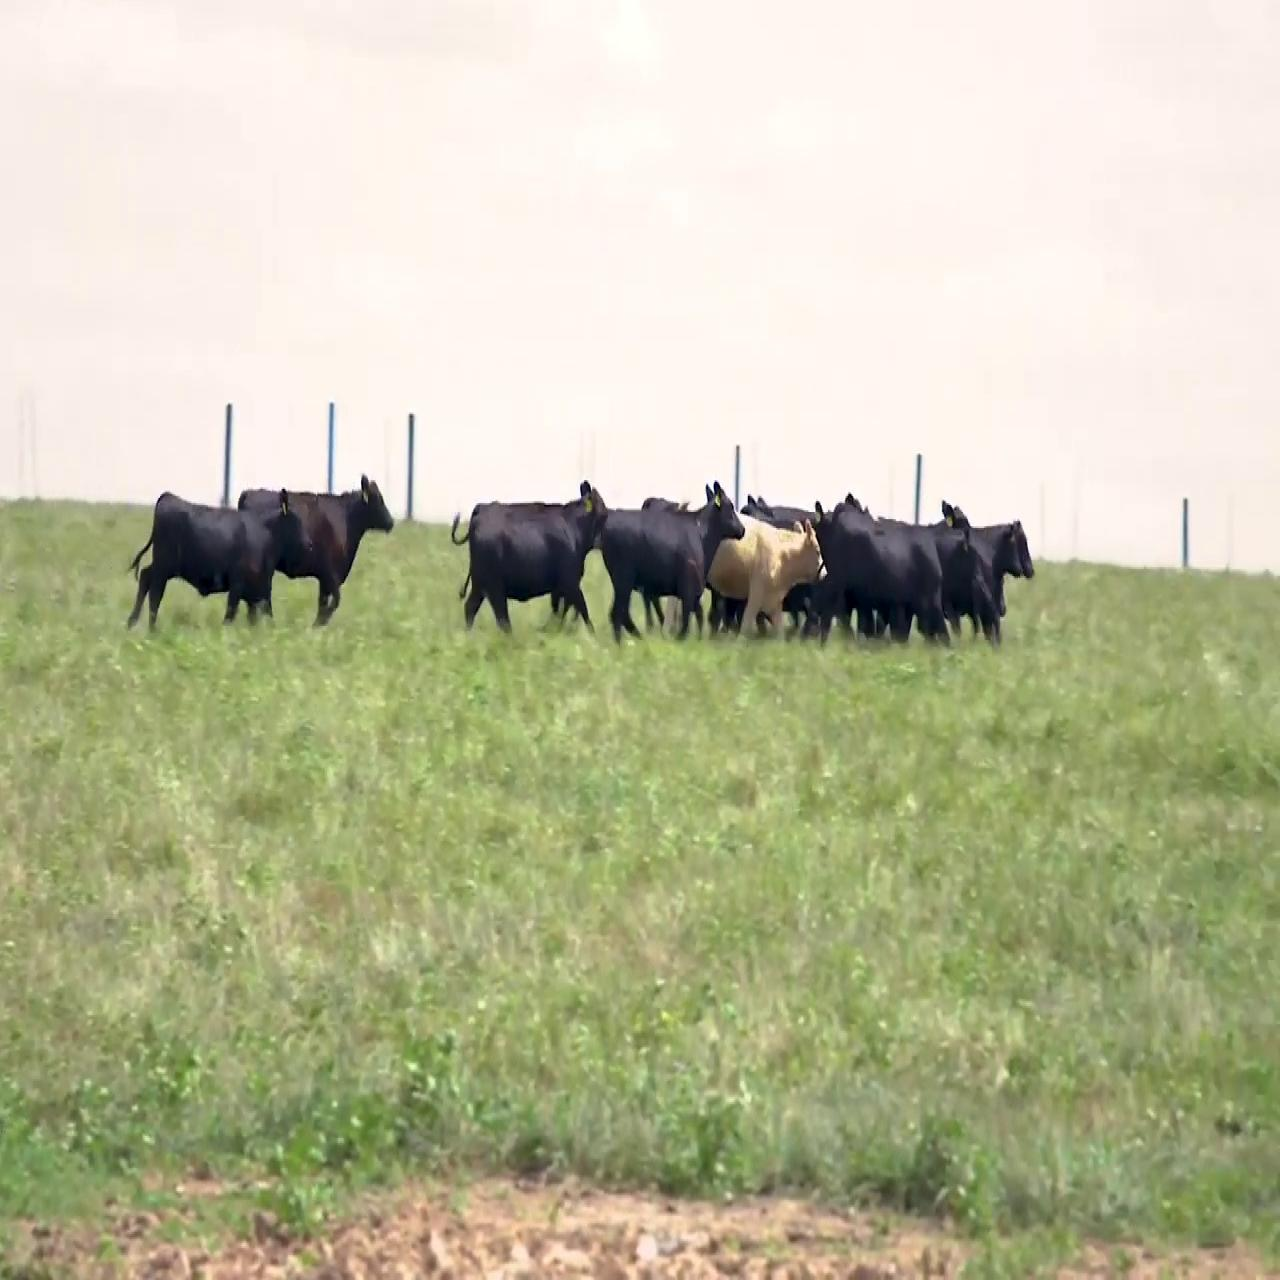cow: (230, 477, 393, 631), (449, 482, 605, 634), (598, 488, 742, 645), (124, 496, 278, 642), (830, 503, 973, 653), (964, 486, 1035, 665)
